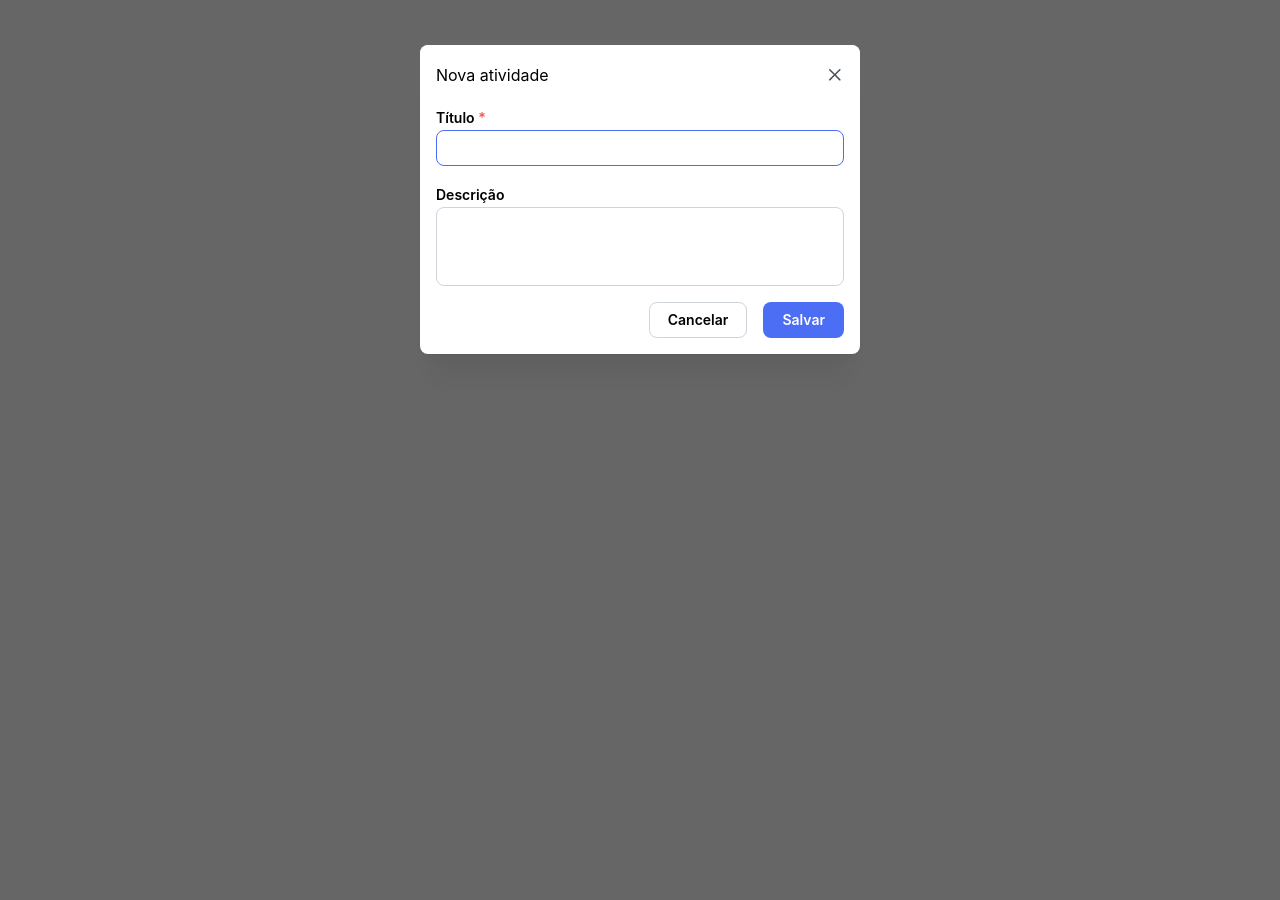
Scenario: TodoFormModal › exibe os erros da API junto aos campos e mantém o formulário aberto
Type "Repetida" into the field labelled "Título *".
click(640, 148); type("Repetida")  # box left=436, top=130, right=844, bottom=166
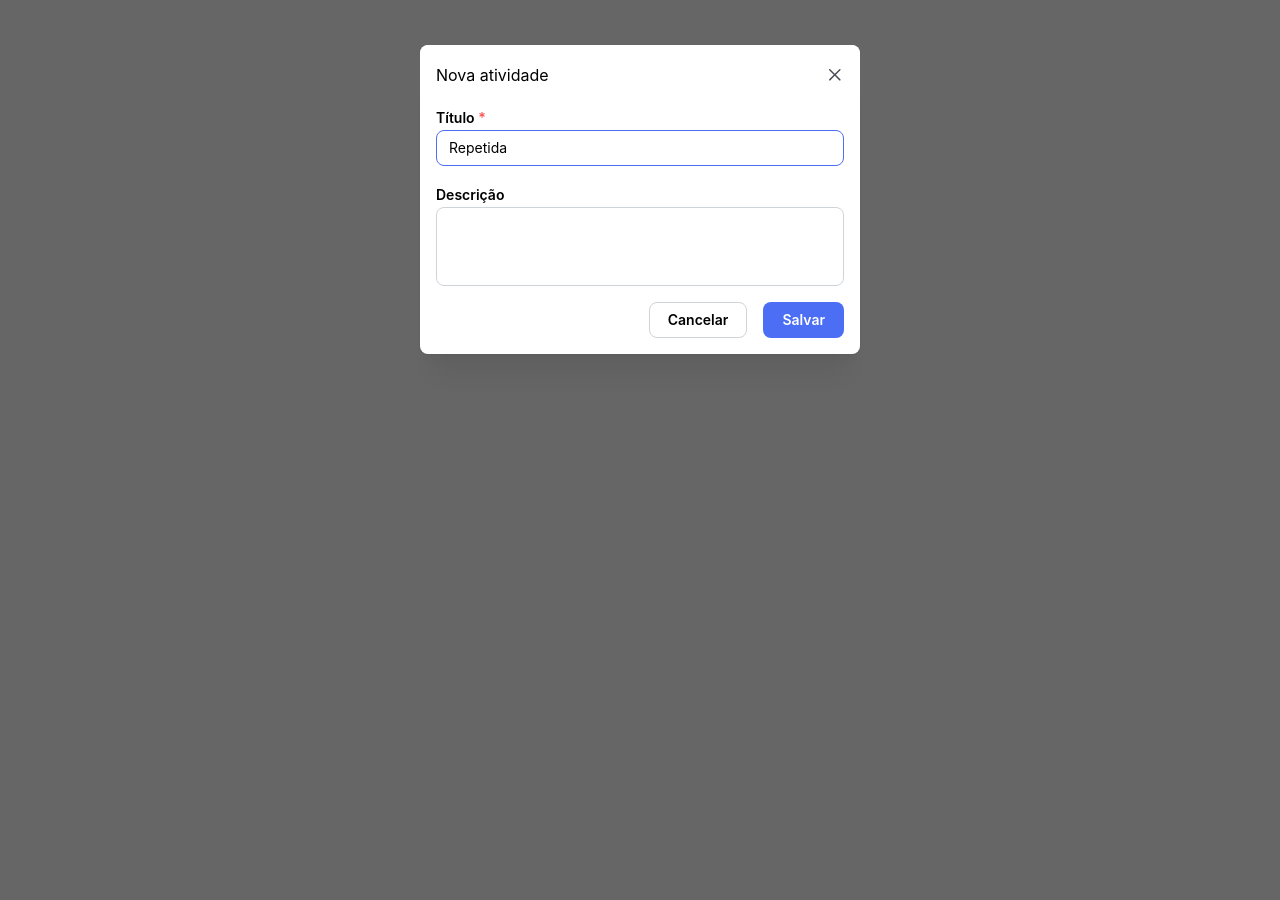
Click the button "Salvar".
click(804, 320)  # box left=763, top=302, right=844, bottom=338
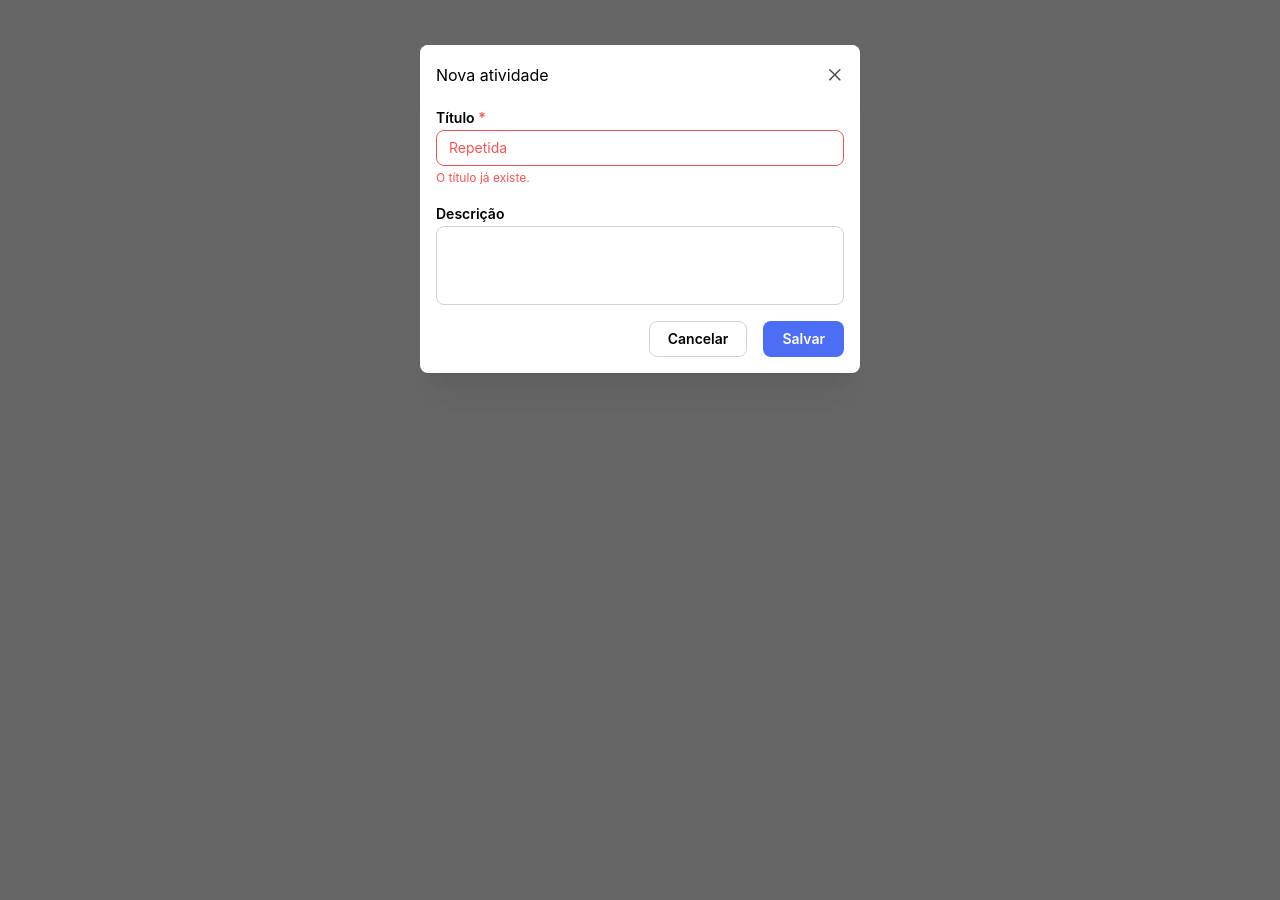
Expected: the button "Salvar" is enabled, left=763, top=321, right=844, bottom=357
Result: the text "O título já existe." is shown at left=436, top=170, right=530, bottom=185
